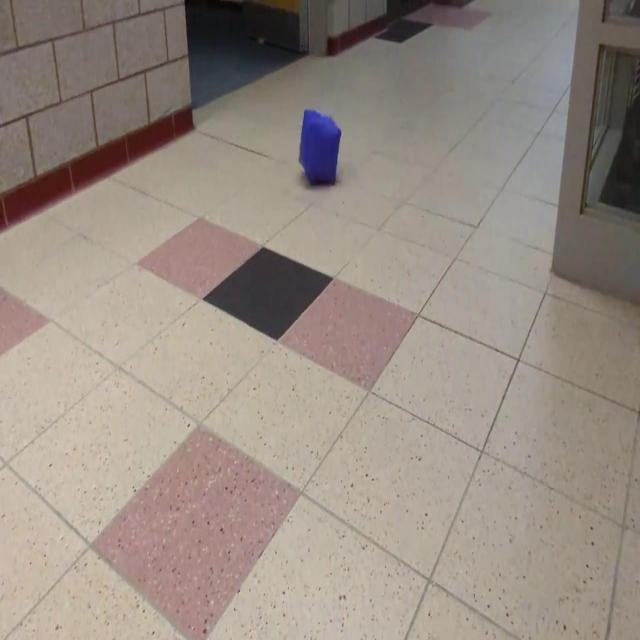frc_cube: (298, 109, 342, 190)
